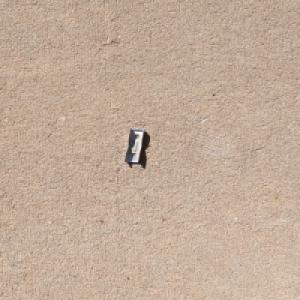ClampPart: (122, 127, 147, 164)
